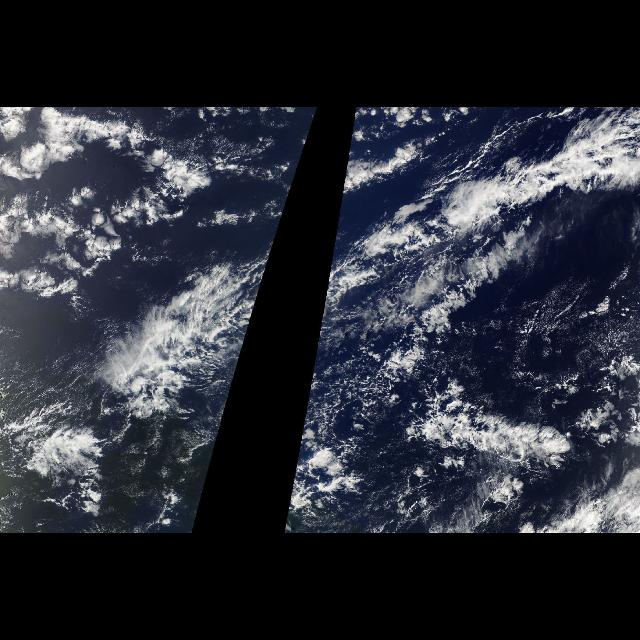Fish: (305, 108, 639, 414), (96, 256, 270, 416), (408, 362, 584, 476), (273, 160, 303, 246)
Flower: (4, 108, 188, 294)
Gravel: (300, 358, 400, 452)
